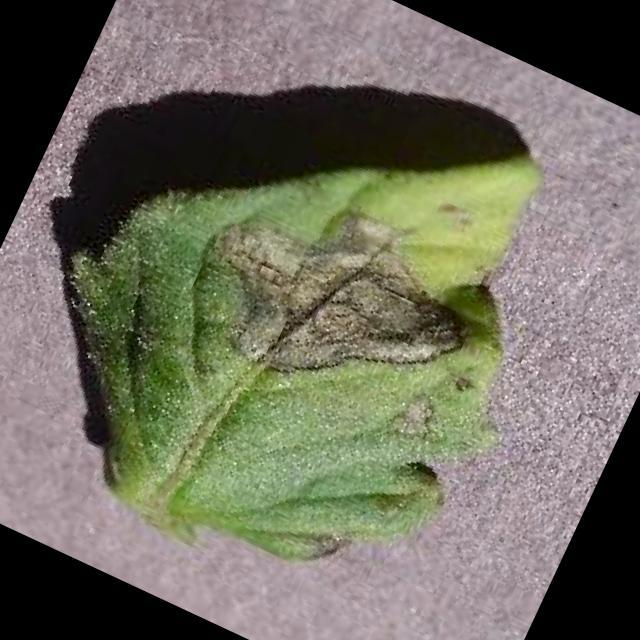Tomato Early blight leaf: (0, 4, 592, 629)
